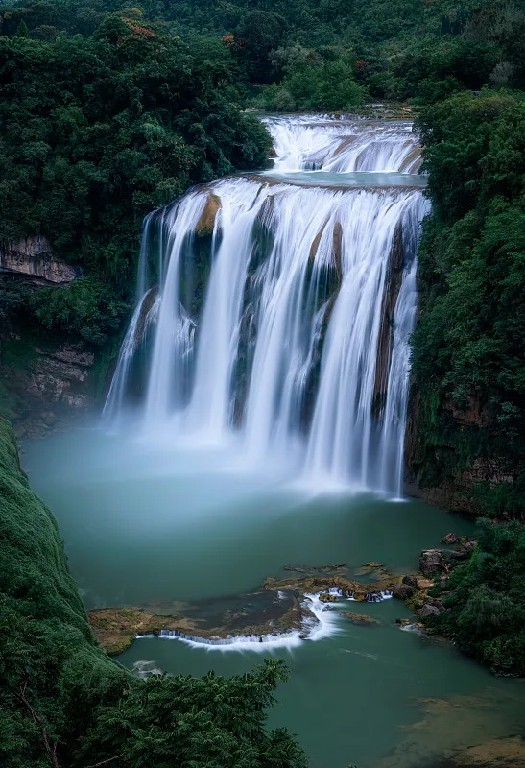Huangguoshu: (96, 117, 431, 495)
